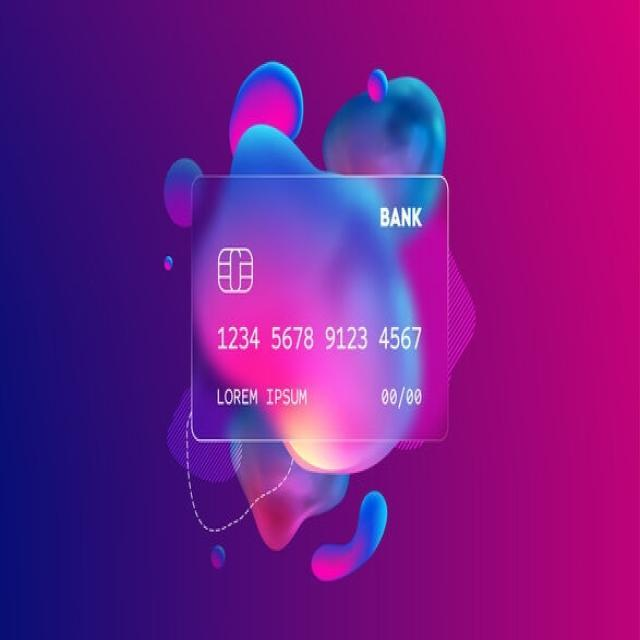payment_card: (187, 170, 451, 469)
